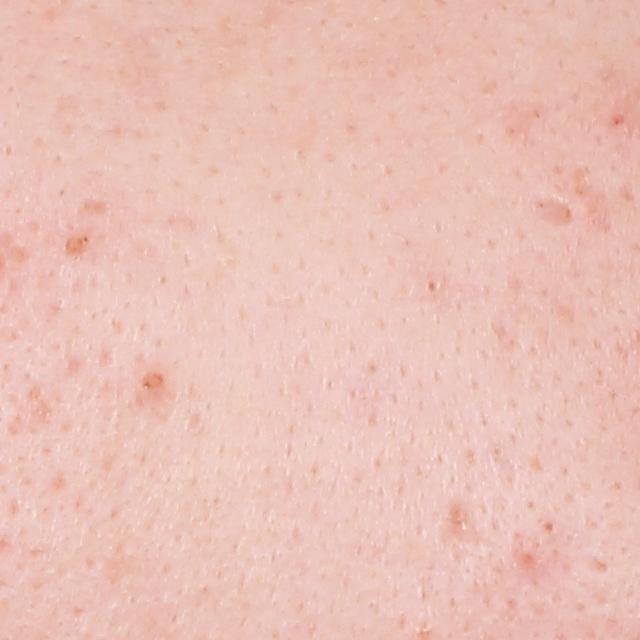atrophic_scar: (568, 162, 614, 237), (4, 384, 56, 439), (73, 192, 121, 226), (536, 193, 579, 226)
comedo: (137, 367, 166, 397), (540, 519, 561, 540), (421, 277, 442, 297)
